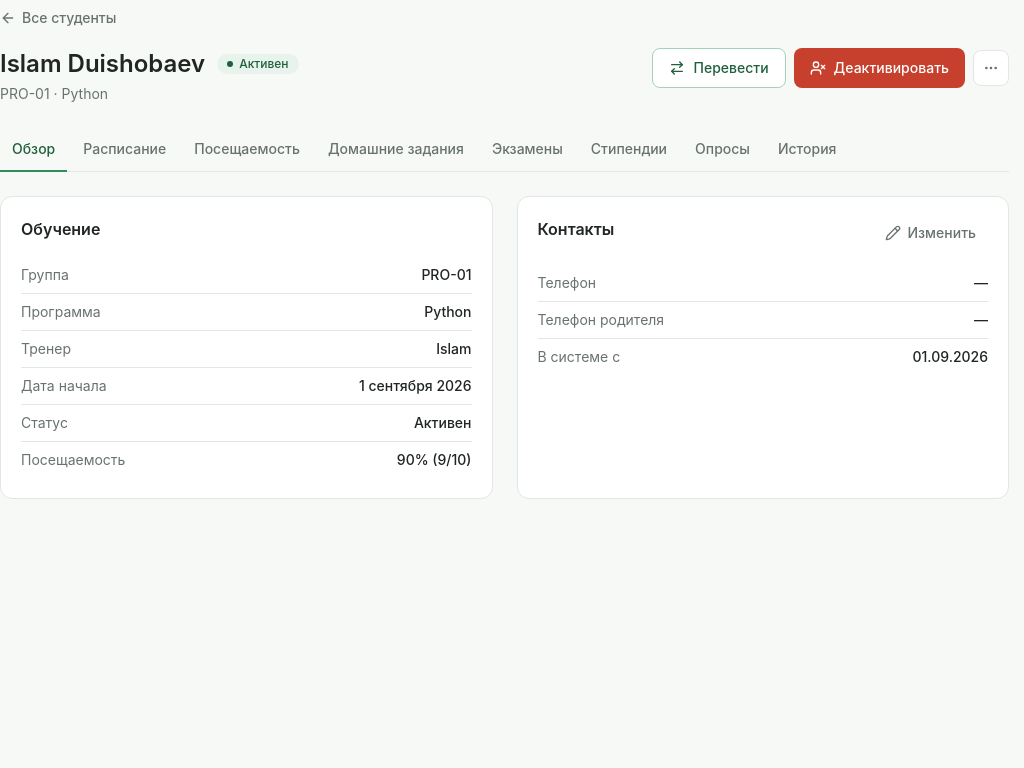
it: Assistant Workspace › «Другая причина» needs a comment before deactivating
The width and height of the screenshot is (1024, 768).
Click the button "Деактивировать" at (879, 68), box [794, 48, 965, 88]
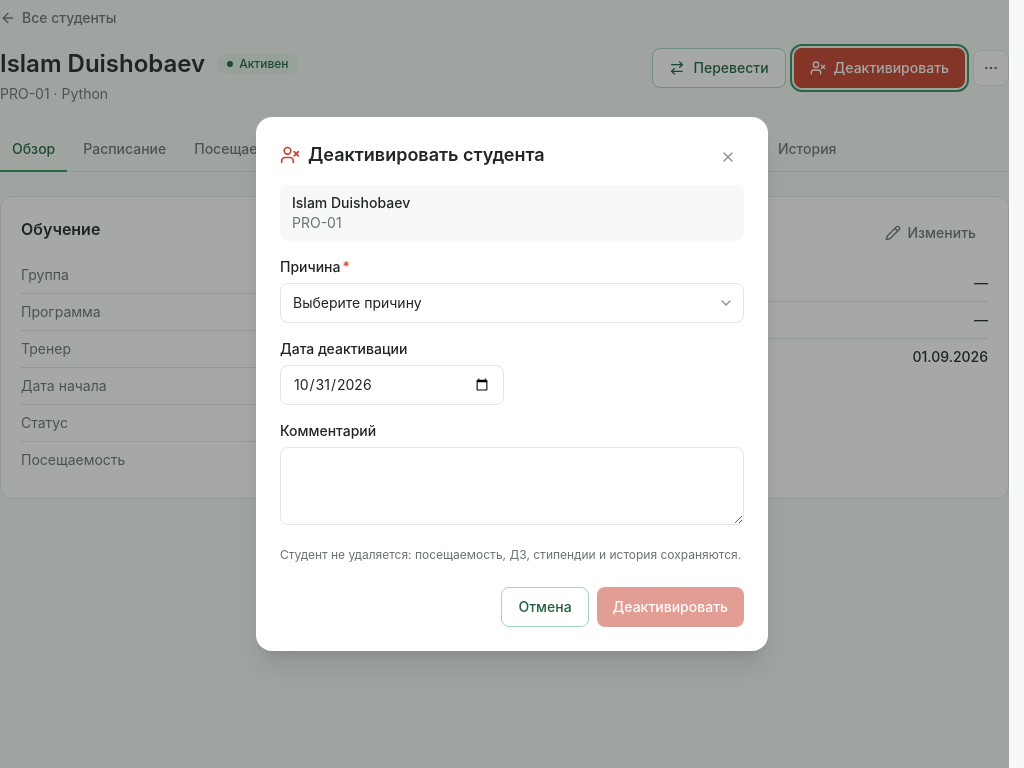
Select "Другая причина" in the dropdown labelled "Причина*" at (512, 303), box [280, 283, 744, 323]
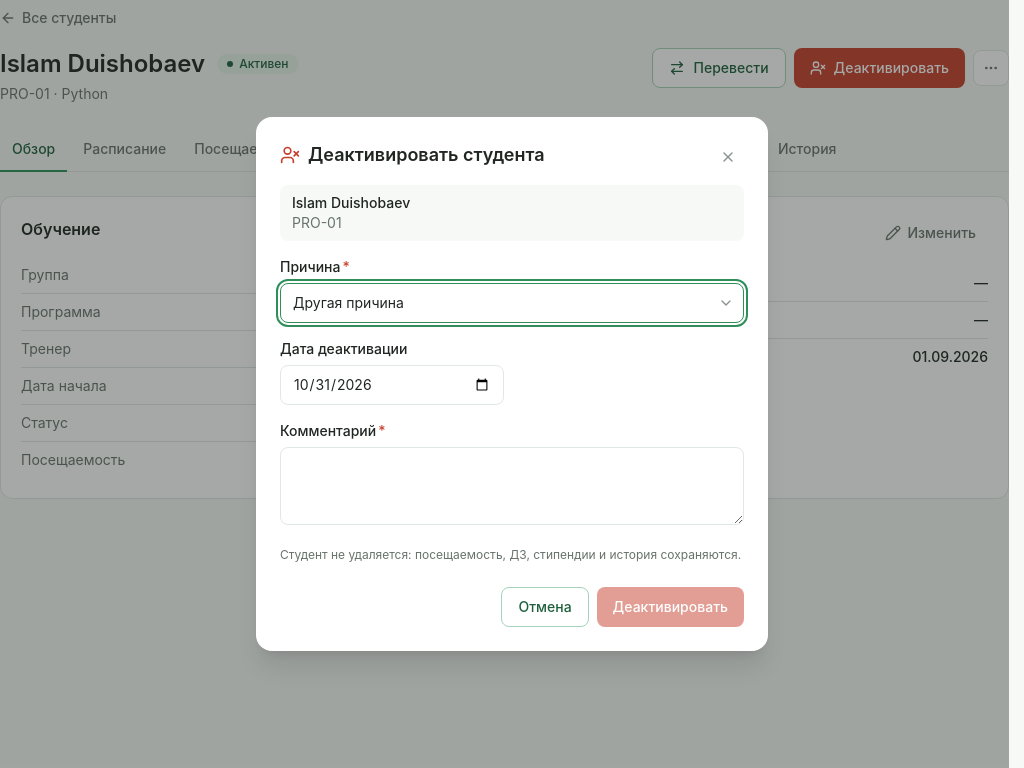
Result: the button "Деактивировать" is disabled at [597, 587, 744, 627]
Type "Уехал" into the text box labelled "Комментарий*" at (512, 486), box [280, 447, 744, 525]
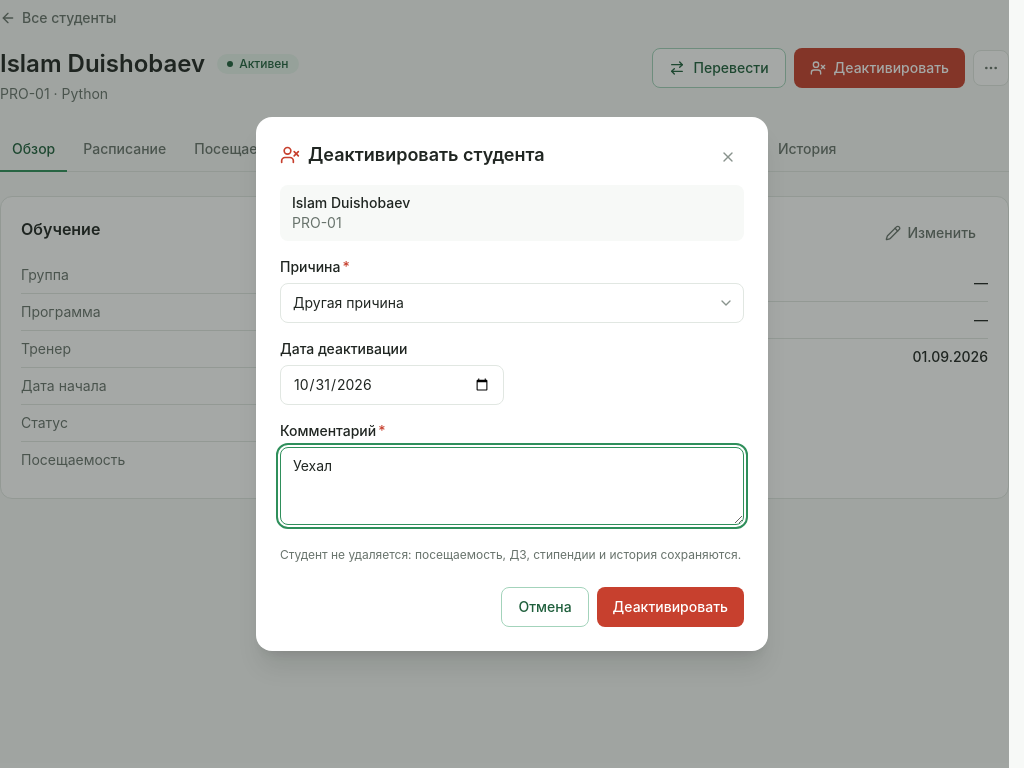
Result: the button "Деактивировать" is enabled at [597, 587, 744, 627]
